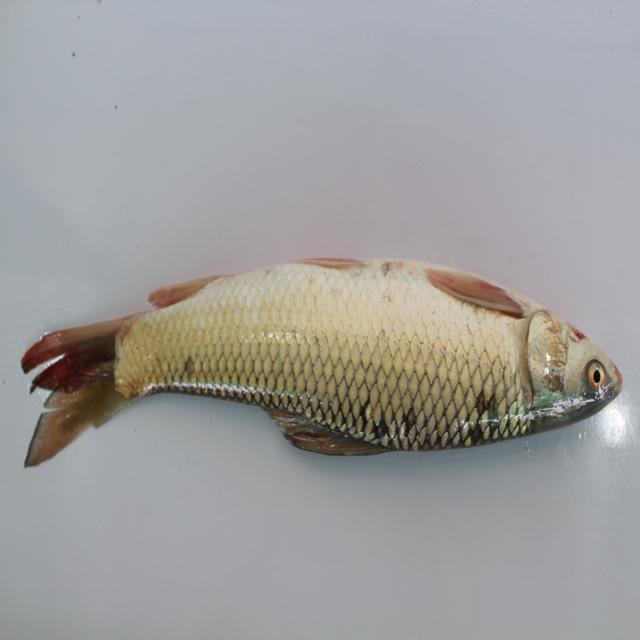Mori: (24, 251, 618, 488)
